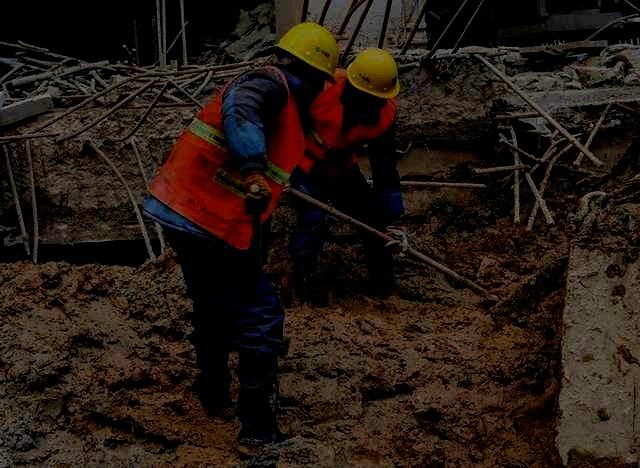helmet: (272, 21, 339, 103), (346, 45, 401, 111)
